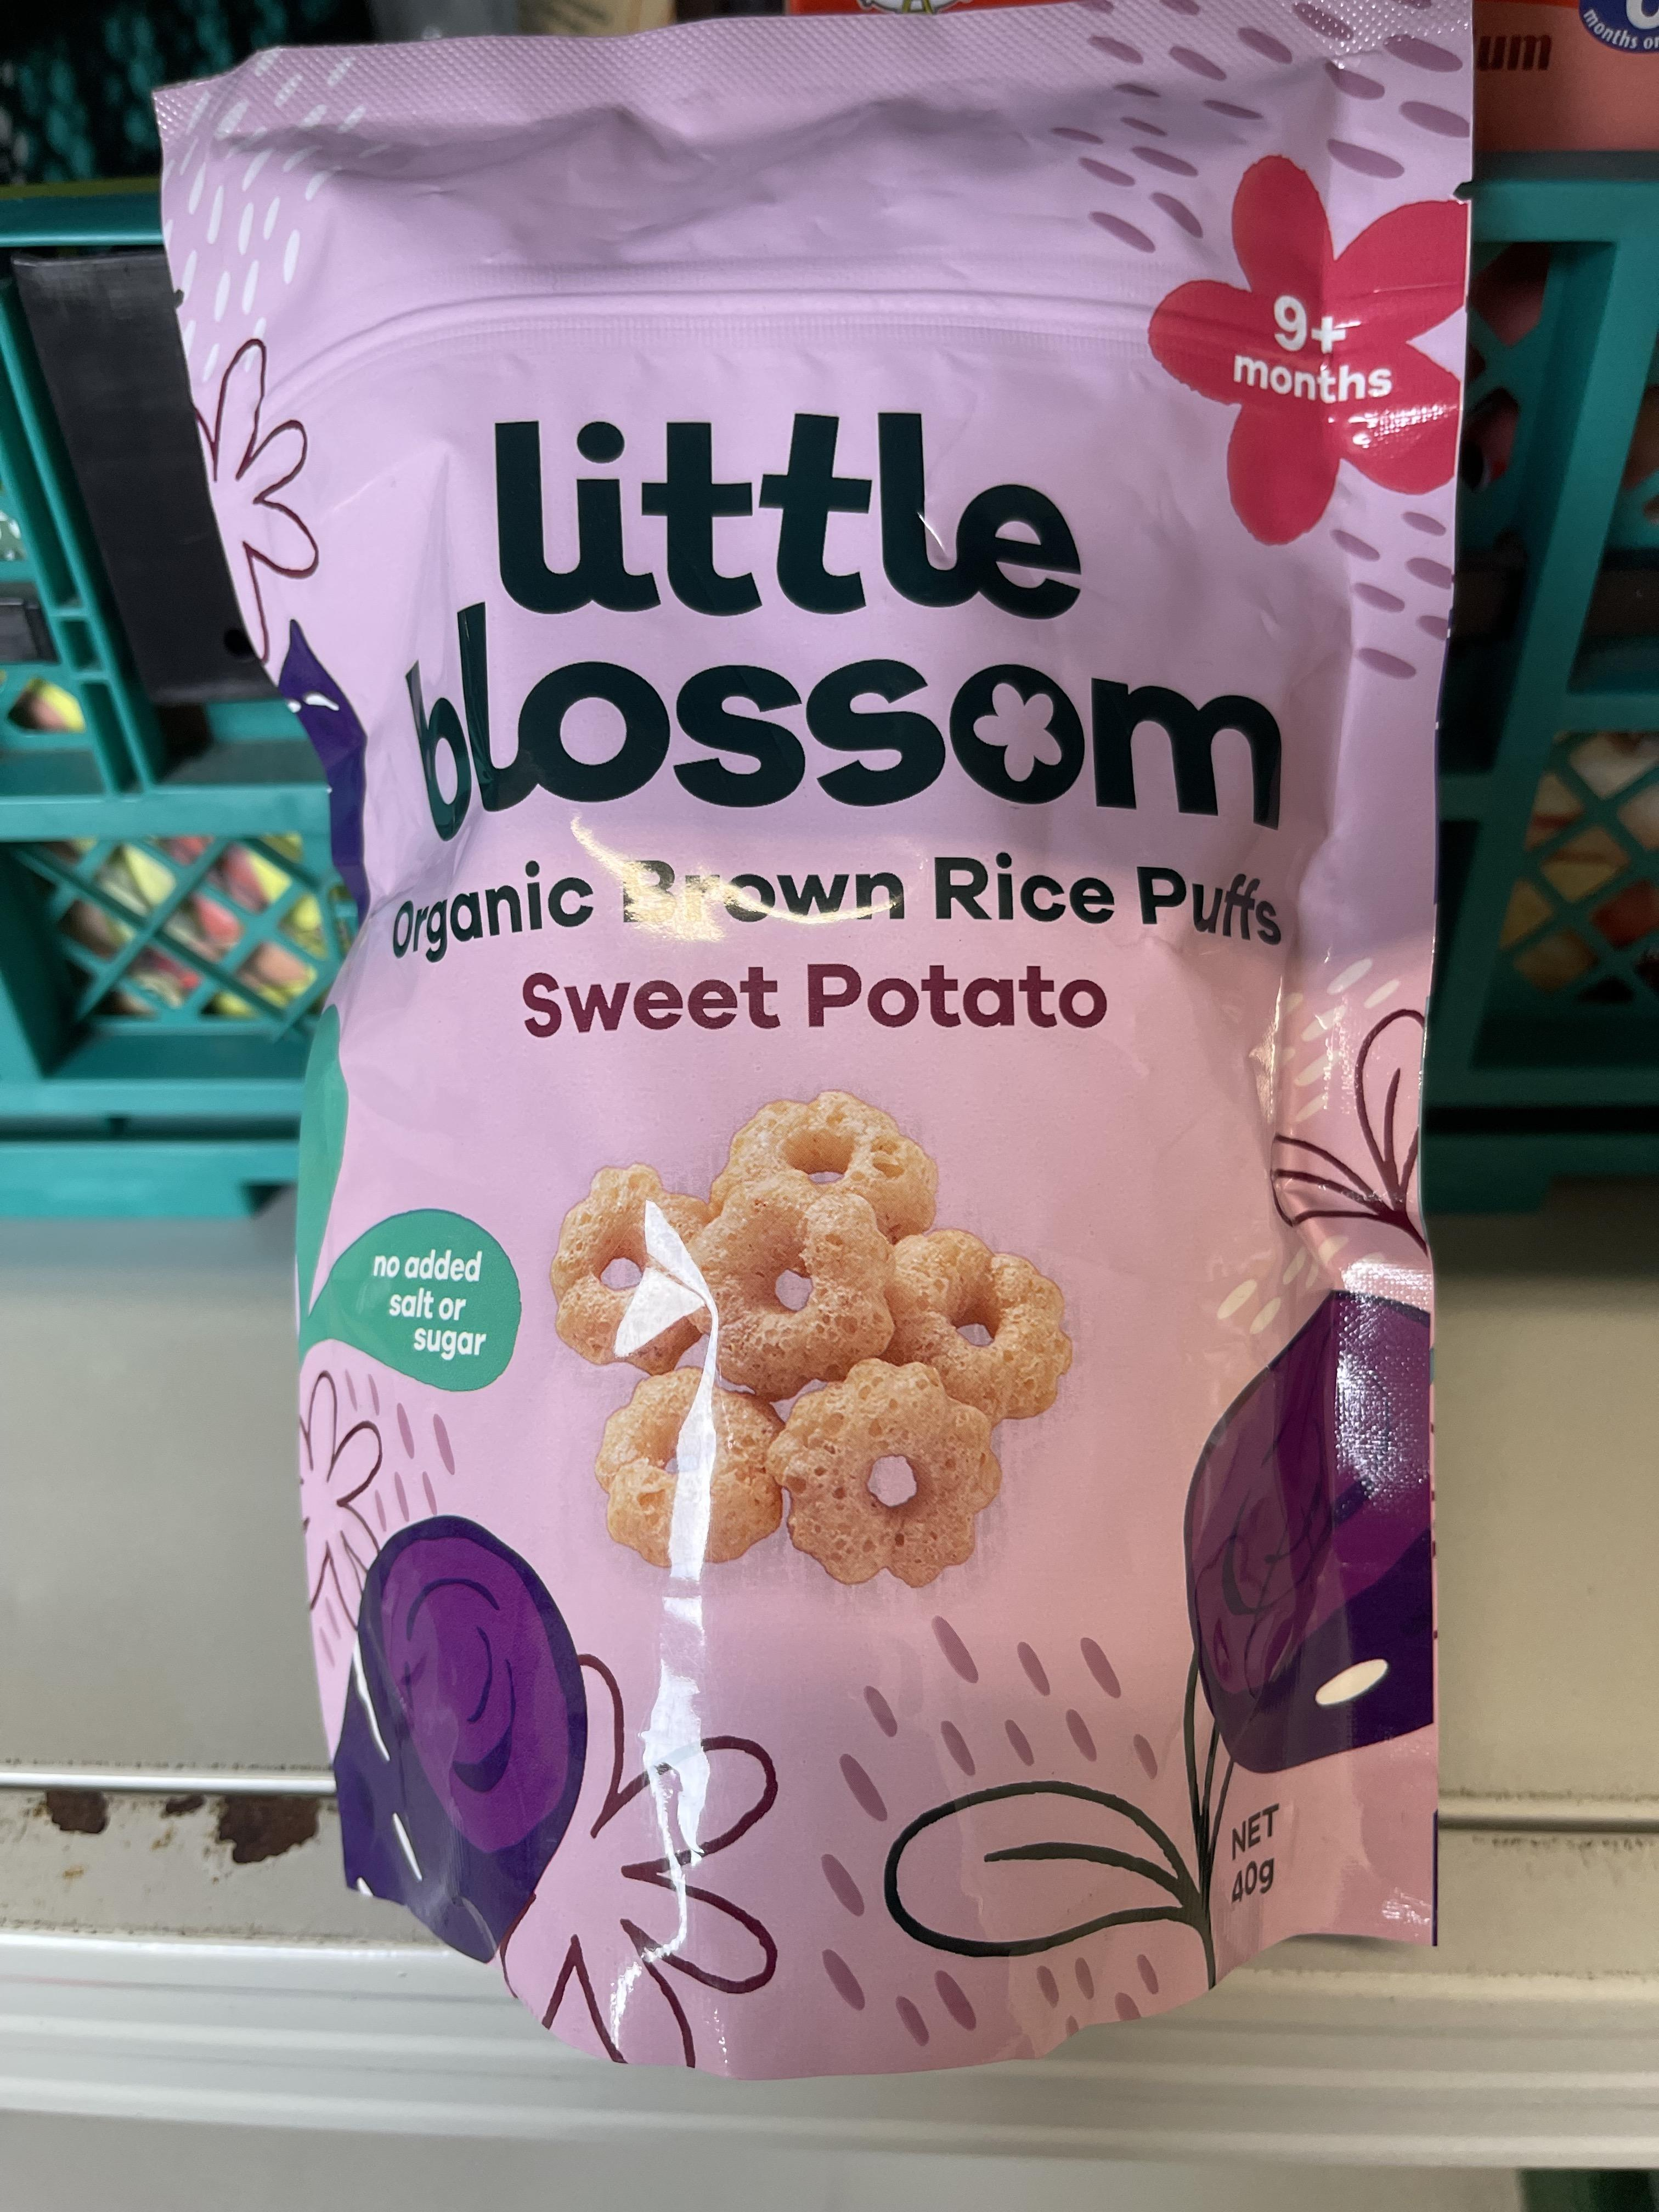object_name: (251, 71, 1417, 1944)
